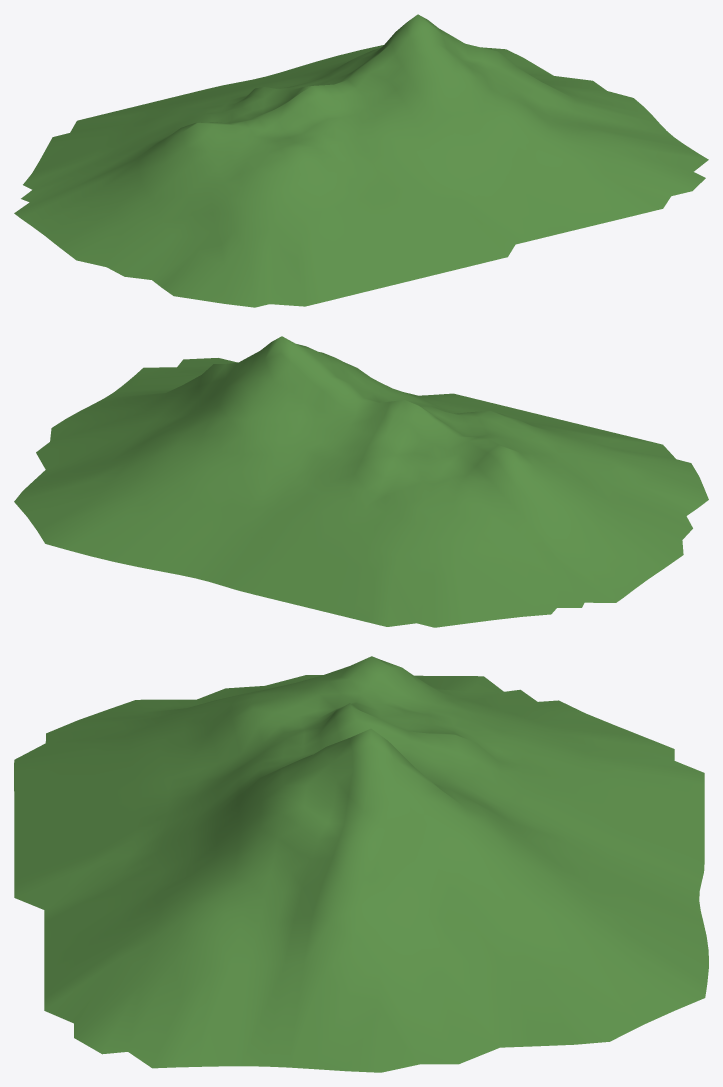
Rendered from SM_Mountain02.fbx.
3 views of the same model, one above another, from view 1: azimuth 30°, elevation 25°; view 2: azimuth 150°, elevation 25°; view 3: azimuth 270°, elevation 25° (orthographic). The views are drawn at different scales.
Visible parts, largest first — view 1: SM_Mountain02; view 2: SM_Mountain02; view 3: SM_Mountain02.
Boxes of the visible parts, x1=… form: SM_Mountain02: x1=14, y1=14, x2=708, y2=307; SM_Mountain02: x1=14, y1=336, x2=708, y2=627; SM_Mountain02: x1=14, y1=656, x2=708, y2=1072.
Bounding box in the file's own units: 3486 × 2574 × 798.
